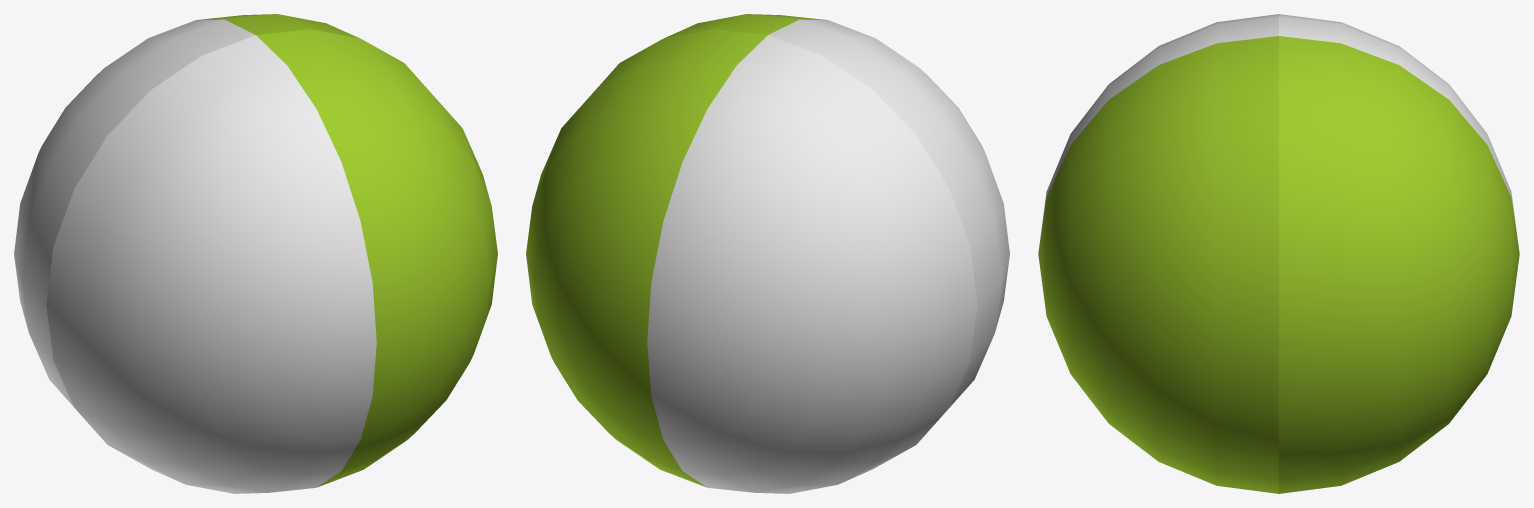
The model's file is splitatom.fbx.
The picture shows the model from 3 angles, left to right: view 1: azimuth 30°, elevation 25°; view 2: azimuth 150°, elevation 25°; view 3: azimuth 270°, elevation 25°; orthographic projection.
Parts seen in each view (by area): view 1: Sfera1, Sfera; view 2: Sfera1, Sfera; view 3: Sfera, Sfera1.
Part boxes in pixels (box(x1,y1,x2,y2)): Sfera1: box(14, 19, 376, 493); Sfera: box(196, 14, 497, 487); Sfera1: box(647, 19, 1009, 493); Sfera: box(526, 14, 827, 487); Sfera: box(1038, 36, 1519, 493); Sfera1: box(1039, 14, 1518, 247).
Bounding box in the file's own units: 1.05 × 1.05 × 1.05.
